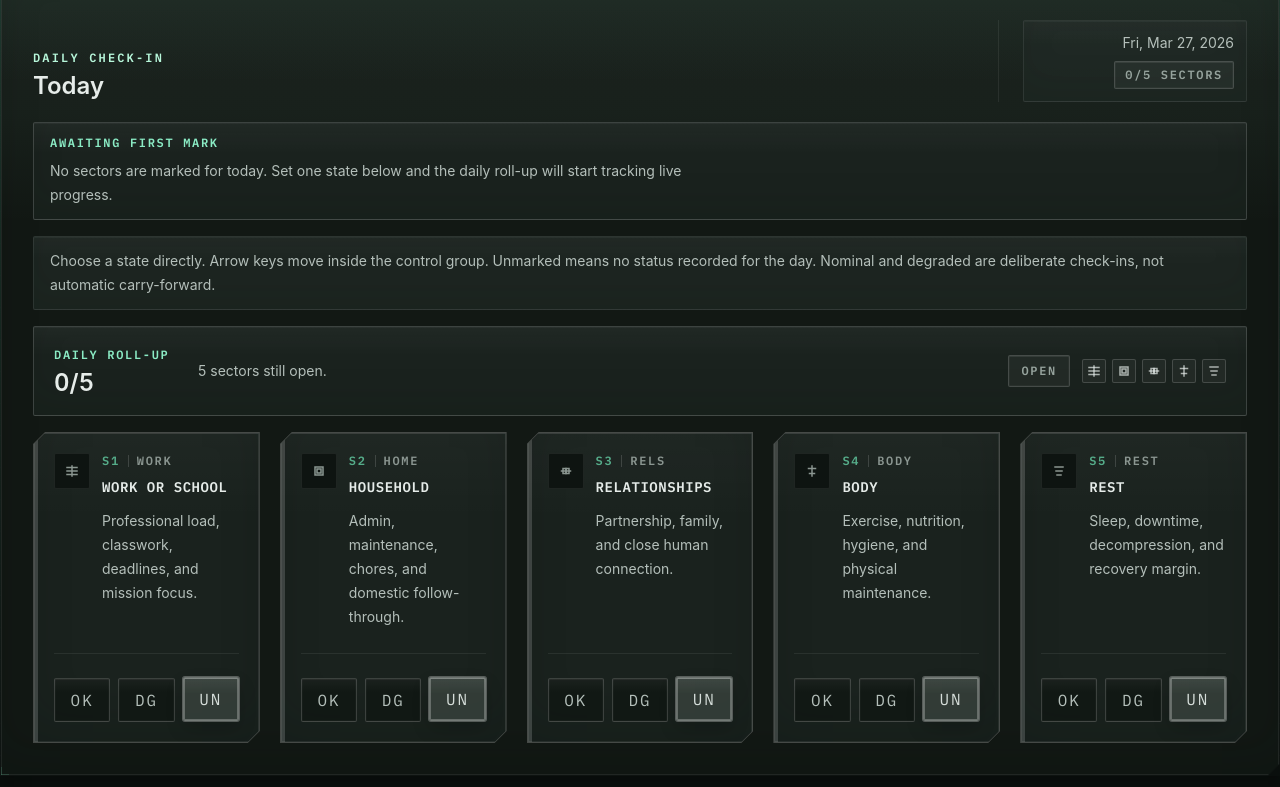
it: TodayPanel › surfaces the error and clears the busy state if the rollover write fails
The image size is (1280, 787).
Click the radio button with aria-label "body nominal". click: (823, 700)
box: [794,678,851,722]
(page scrolled)
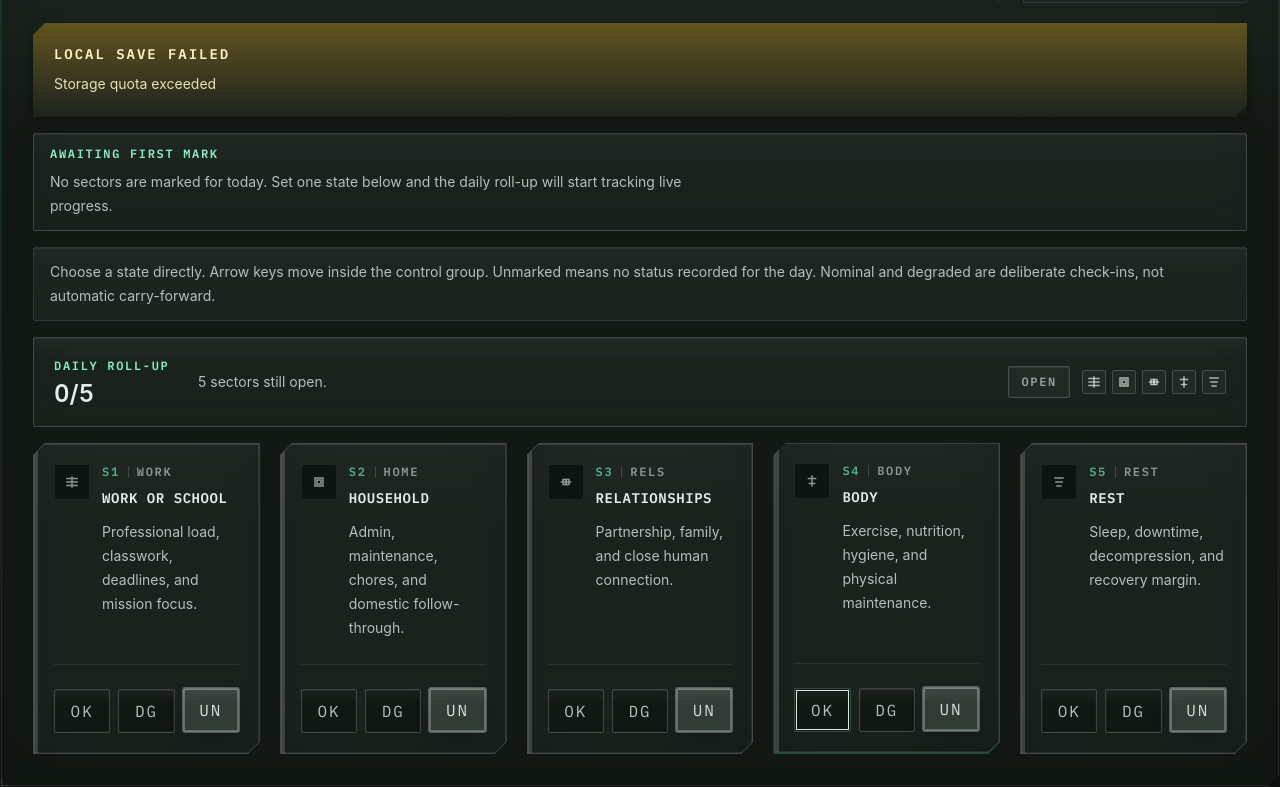
Expected: the radio button with aria-label "body nominal" is enabled, [794,688,851,732]
Now the text "Storage quota exceeded" is shown, box [54,75,216,92]
